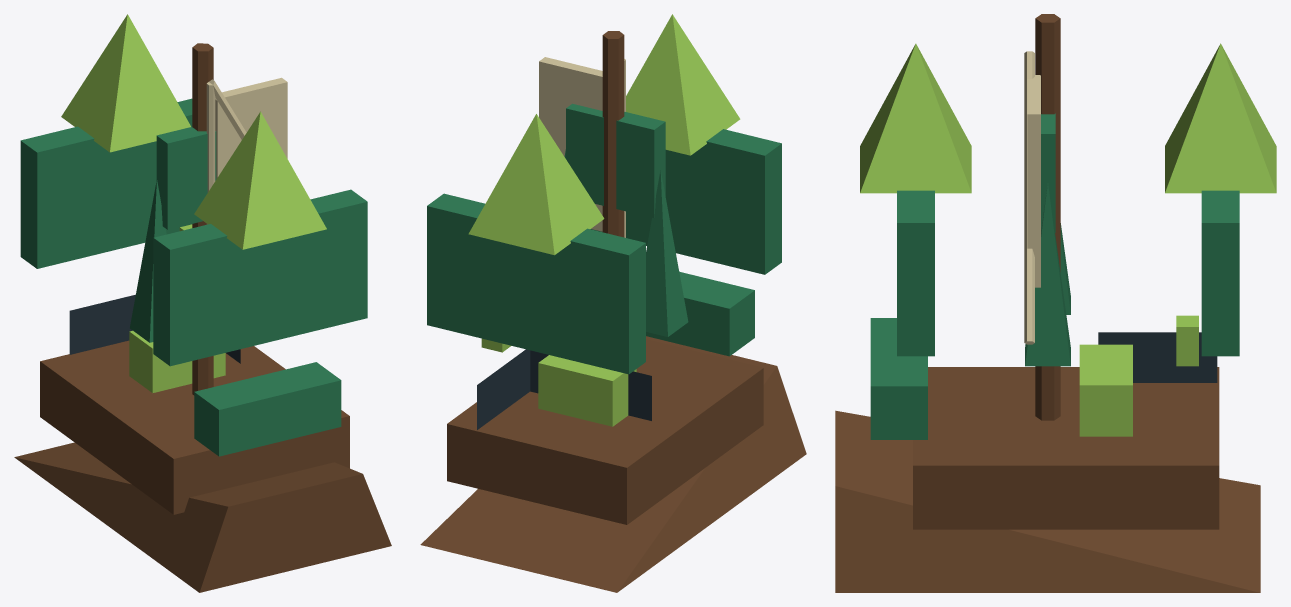
File: legendary-warship.obj
3 renders of one model, left to right at view 1: azimuth 30°, elevation 25°; view 2: azimuth 150°, elevation 25°; view 3: azimuth 270°, elevation 25°, orthographic. The views are drawn at different scales.
Visible parts, largest first — view 1: ship; view 2: ship; view 3: ship.
Boxes of the visible parts, box(x1,y1,x2,y2) form: ship: box(14, 14, 391, 592); ship: box(420, 14, 806, 592); ship: box(835, 14, 1276, 592).
Size of the model in its own units: 1.09 by 2.26 by 1.74.
